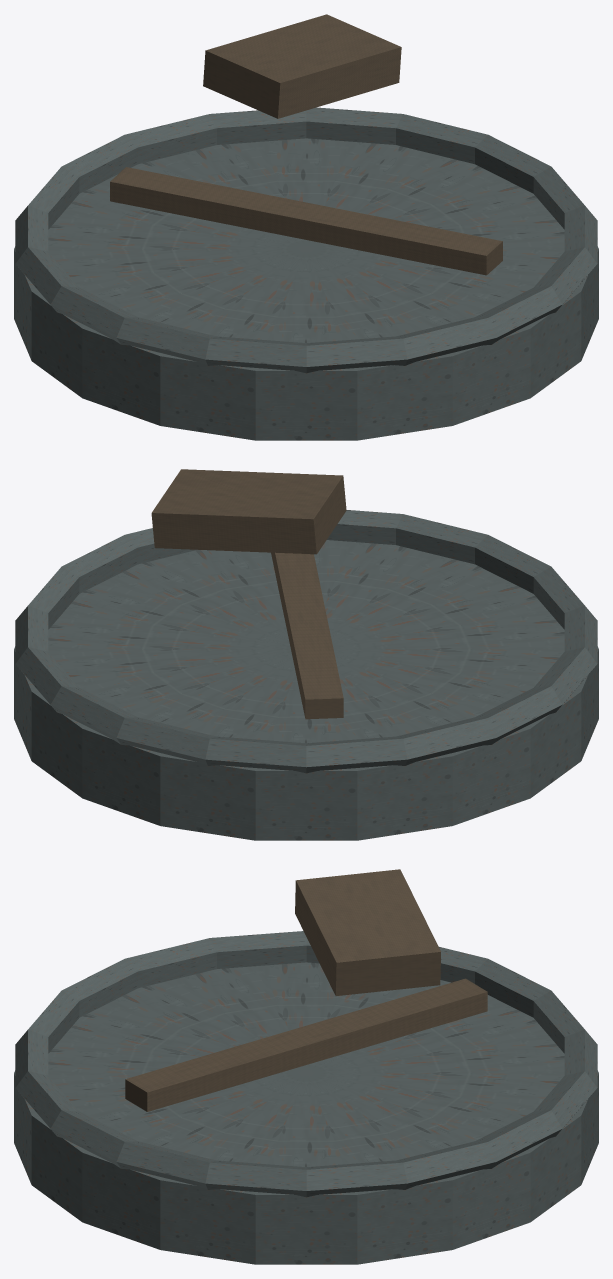
The model's file is ax-tool-006_compass__worn.obj.
3 renders of one model, top to bottom at view 1: azimuth 30°, elevation 25°; view 2: azimuth 150°, elevation 25°; view 3: azimuth 270°, elevation 25°, orthographic.
Parts seen in each view (by area): view 1: ax-tool-006_compass__worn; view 2: ax-tool-006_compass__worn; view 3: ax-tool-006_compass__worn.
Part boxes in pixels (x1,y1,x2,y2): ax-tool-006_compass__worn: (14,14,598,440); ax-tool-006_compass__worn: (14,469,598,840); ax-tool-006_compass__worn: (14,869,598,1264).
Bounding box in the file's own units: 0.12 × 0.0554 × 0.1187.
2 materials, 2 textured.
